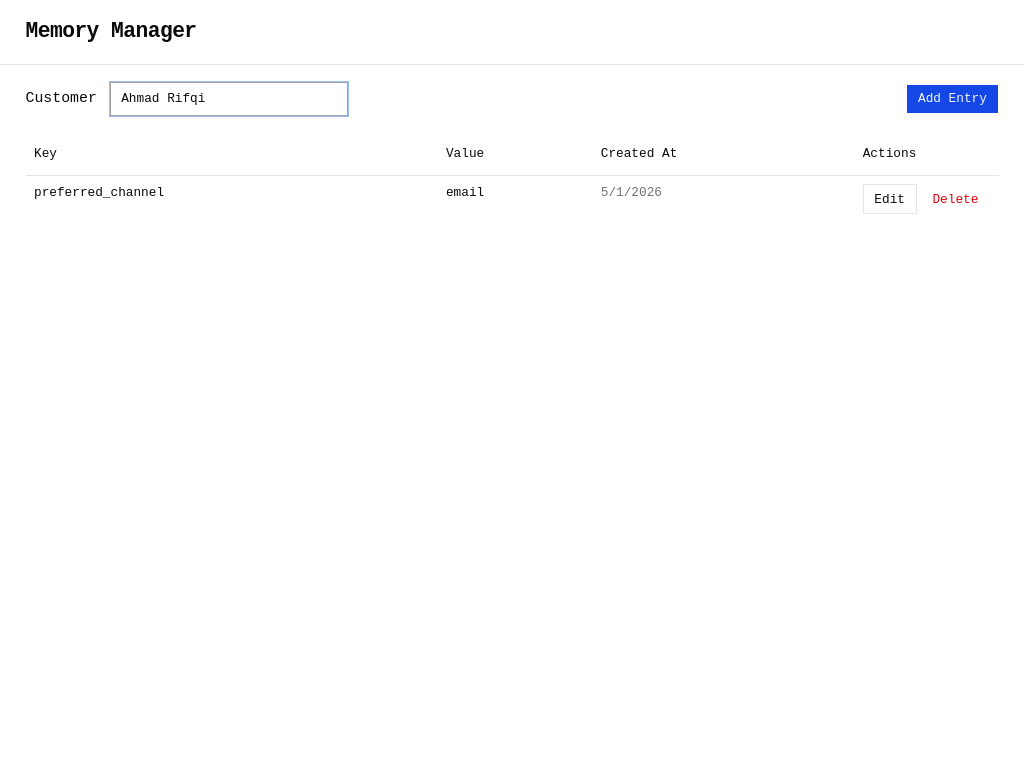
Test: MemoryPage › opens Edit dialog pre-filled with current values and saves changes
The width and height of the screenshot is (1024, 768).
Type keys " "
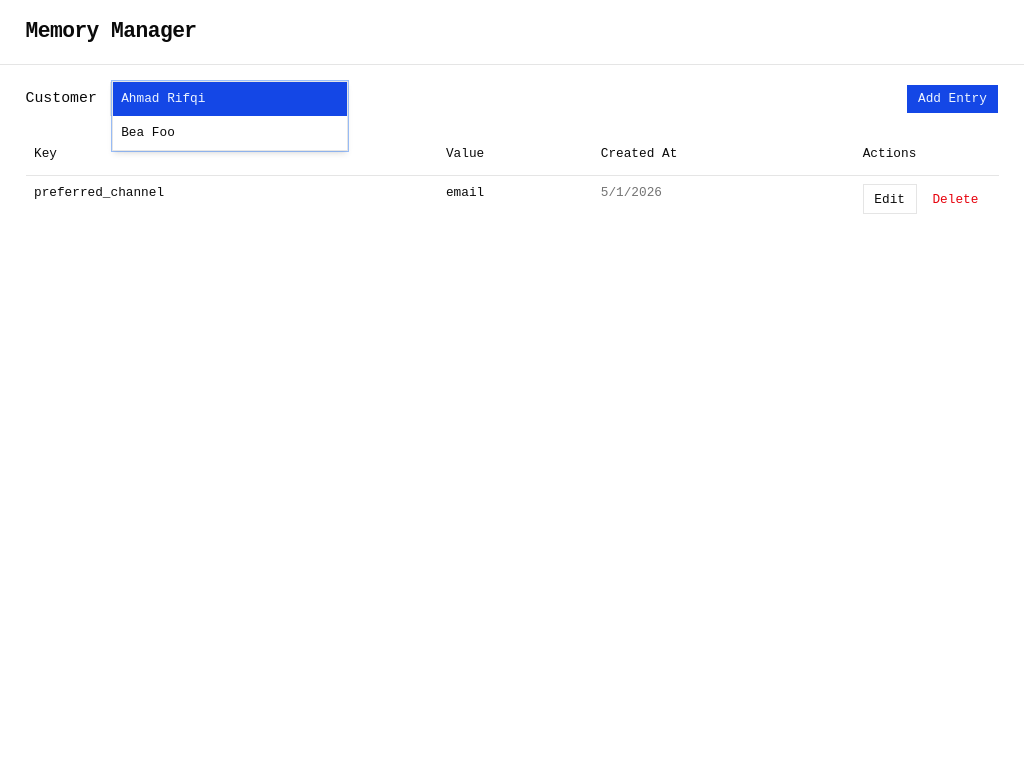
Check: the dropdown named "customer" has attribute data-state="open"
Click the option "Ahmad Rifqi" at (230,99), box [113, 82, 347, 116]
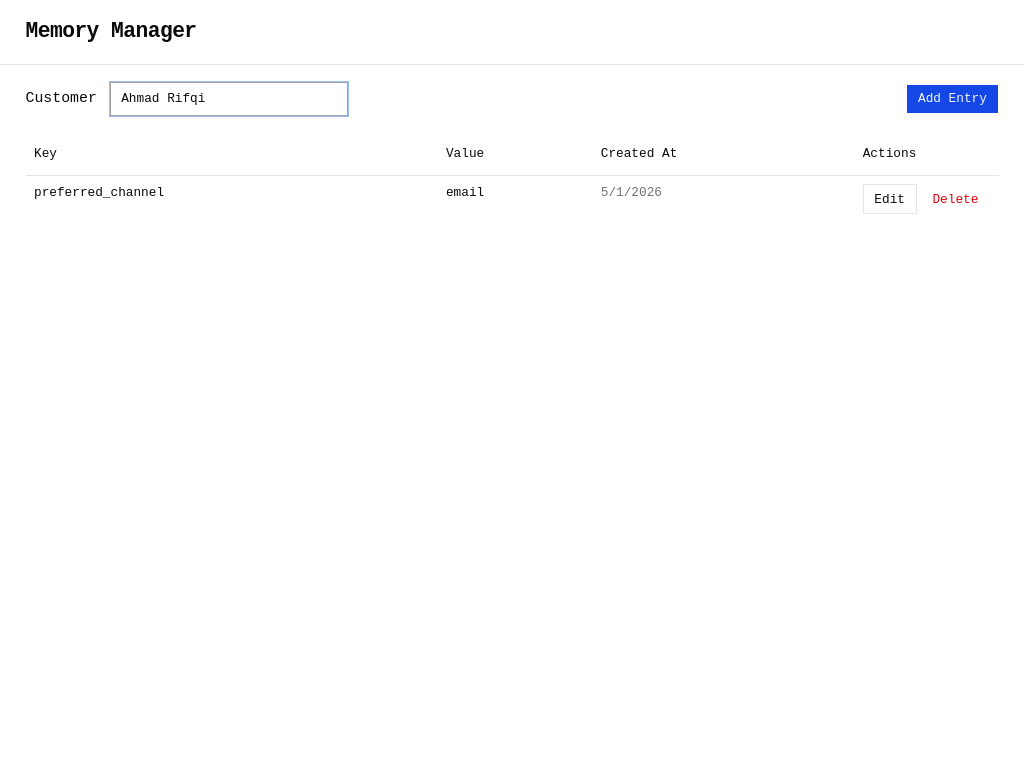
Click the button "Edit" at (890,199), box [863, 184, 917, 214]
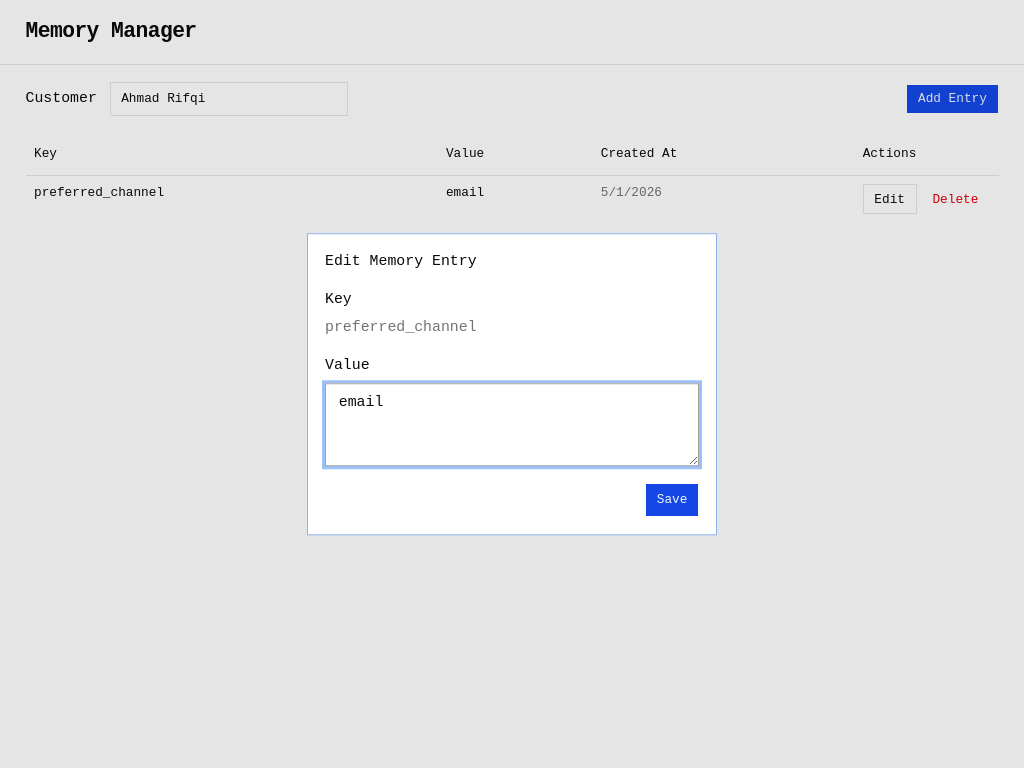
Check: the text box showing "email" is shown
Replace the text in the text box labelled "Value" with "sms" at (512,424), box [325, 383, 699, 466]
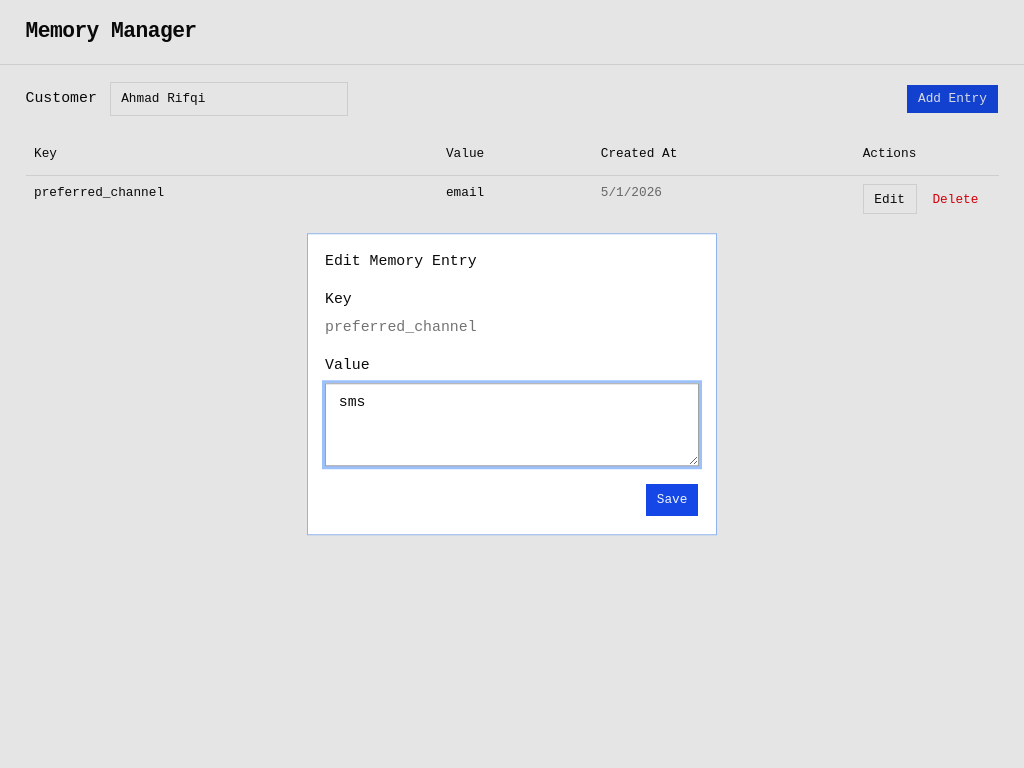
Click the button "Save" at (672,500), box [645, 483, 699, 517]
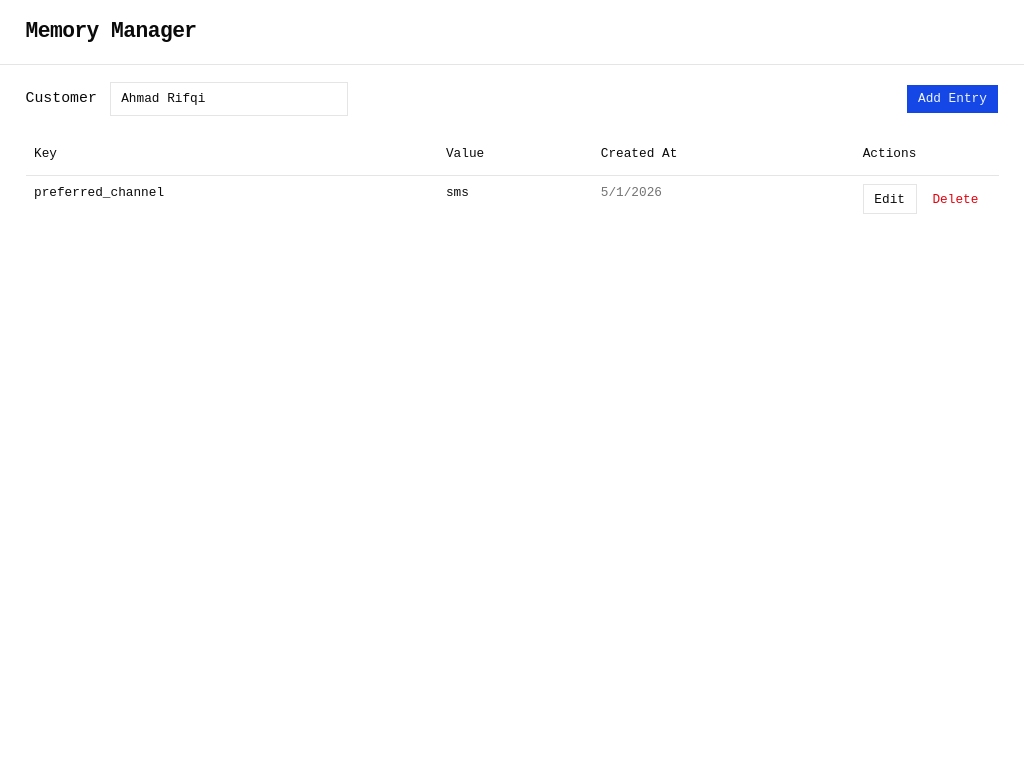
Check: the cell "sms" is shown, box [438, 175, 592, 222]
Check: the cell "email" is gone
